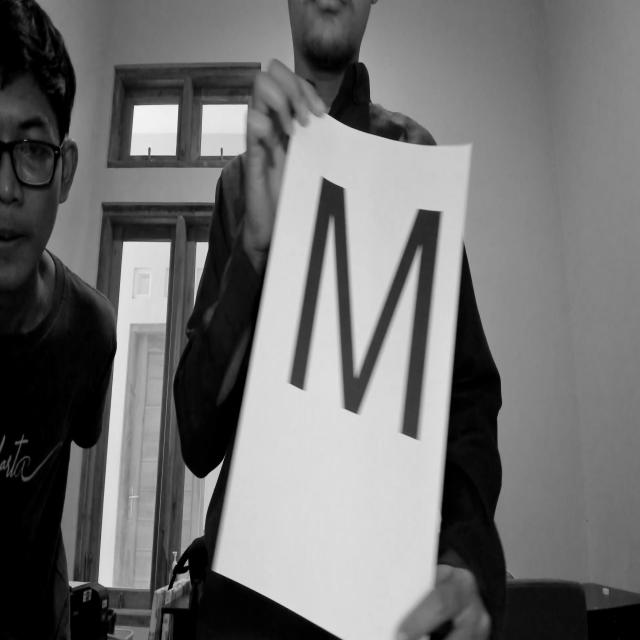m: (290, 169, 438, 495)
